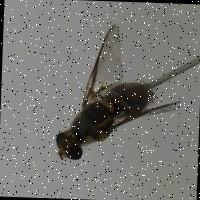Oriental-fruit-fly: (39, 20, 190, 167)
